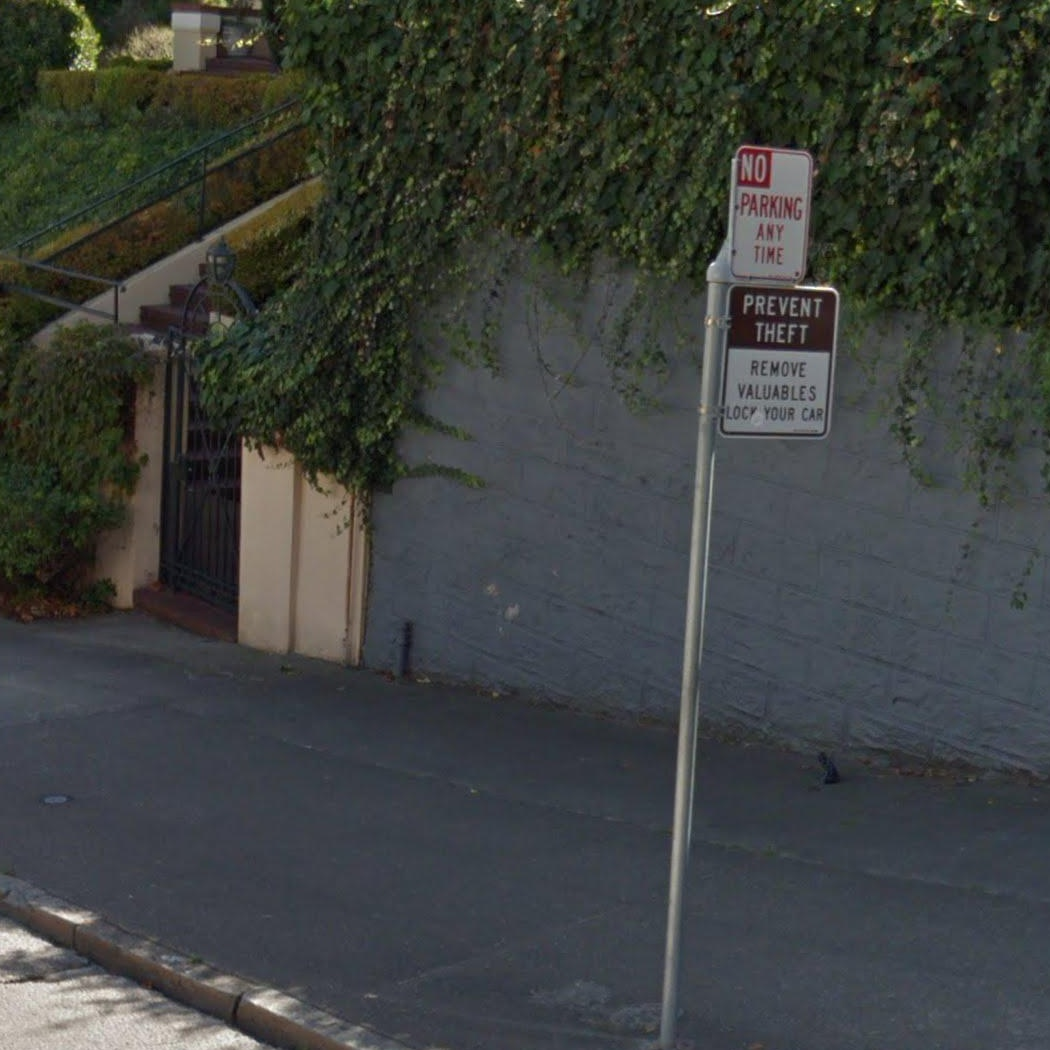No Parking Anytime: (732, 141, 813, 283)
